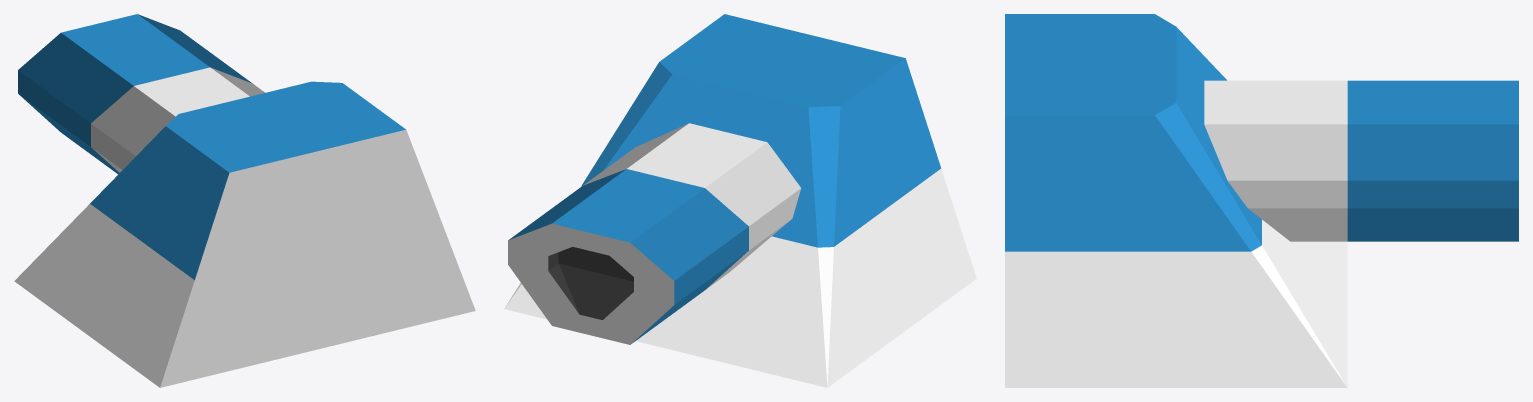
The model's file is canon.obj.
3 views of the same model, side by side, from view 1: azimuth 30°, elevation 25°; view 2: azimuth 150°, elevation 25°; view 3: azimuth 270°, elevation 25° (orthographic). The views are drawn at different scales.
Visible parts, largest first — view 1: ship_cargoFront_6, engine_barrel_7; view 2: ship_cargoFront_6, engine_barrel_7; view 3: ship_cargoFront_6, engine_barrel_7.
Part boxes in pixels (<box>): ship_cargoFront_6: <box>14,81,475,387</box>; engine_barrel_7: <box>18,14,264,174</box>; ship_cargoFront_6: <box>504,14,976,387</box>; engine_barrel_7: <box>508,123,801,344</box>; ship_cargoFront_6: <box>1005,14,1347,387</box>; engine_barrel_7: <box>1204,80,1518,241</box>.
Size of the model in its own units: 0.5 by 0.3 by 0.6.
